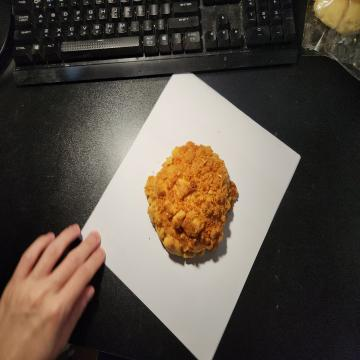soboru_bread: (144, 141, 240, 260)
